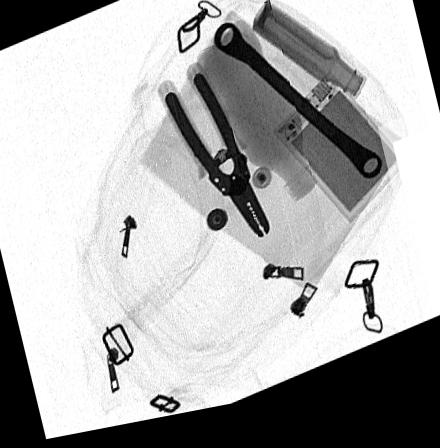Pliers: (212, 30, 382, 192), (164, 76, 271, 248)
Powerbank: (271, 82, 405, 237)
